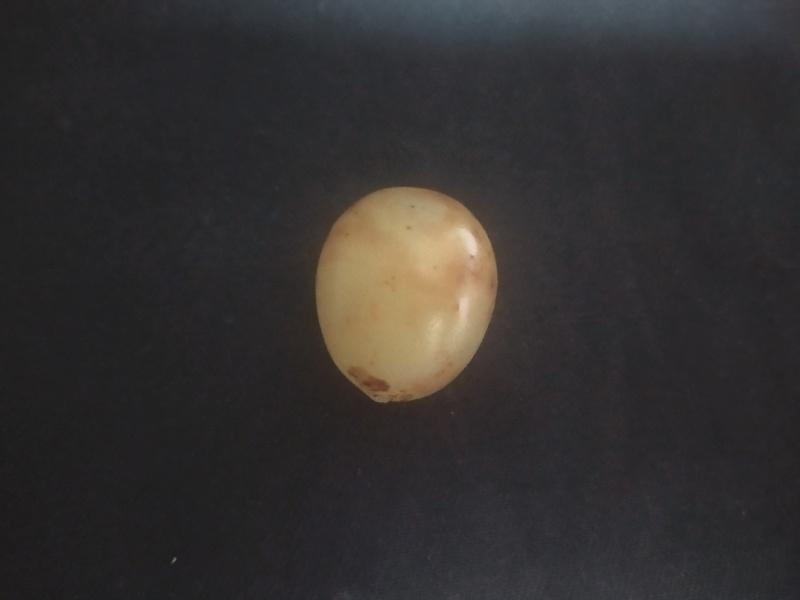Grape Rotten: (311, 183, 499, 405)
